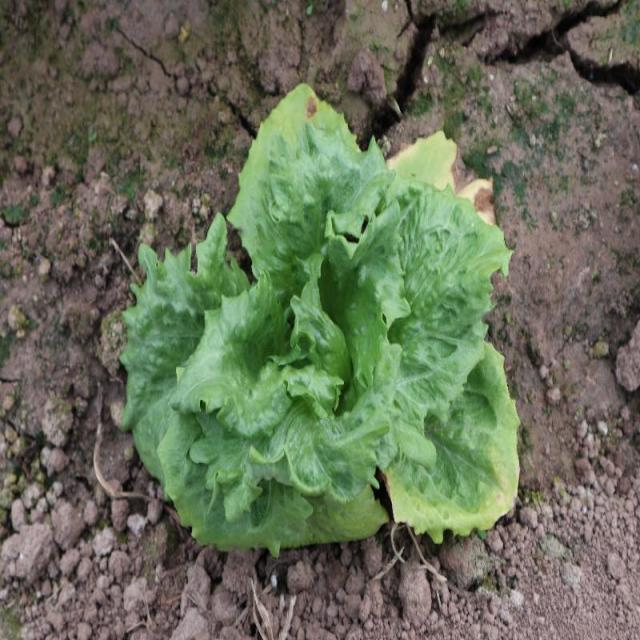crop: (126, 143, 520, 544)
